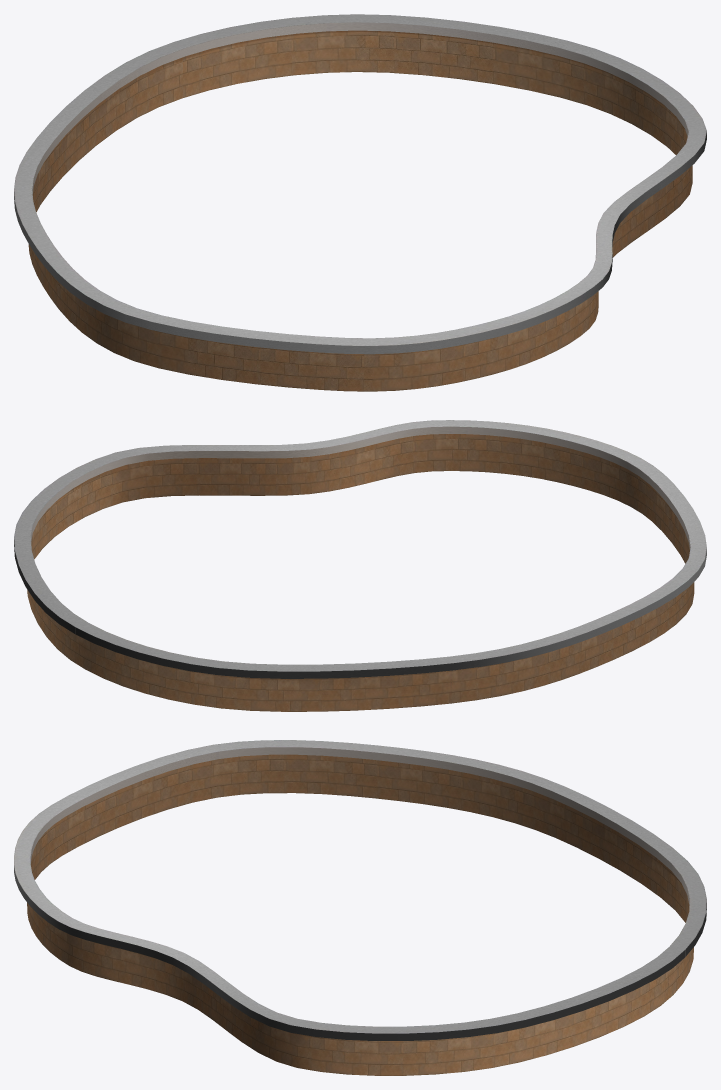
Rendered from terreno-externo-sin-suelo.glb.
The picture shows the model from 3 angles, top to bottom: view 1: azimuth 30°, elevation 25°; view 2: azimuth 150°, elevation 25°; view 3: azimuth 270°, elevation 25°; orthographic projection. The views are drawn at different scales.
Visible parts, largest first — view 1: Line001, Line001.001; view 2: Line001, Line001.001; view 3: Line001, Line001.001.
Part boxes in pixels (x1,y1,x2,y2): Line001: (28, 30, 692, 391); Line001.001: (14, 14, 706, 354); Line001: (27, 434, 694, 711); Line001.001: (14, 420, 706, 678); Line001: (27, 754, 693, 1075); Line001.001: (14, 740, 706, 1040).
Bounding box in the file's own units: 9.27 × 0.7007 × 9.25.
2 materials, 2 textured.
